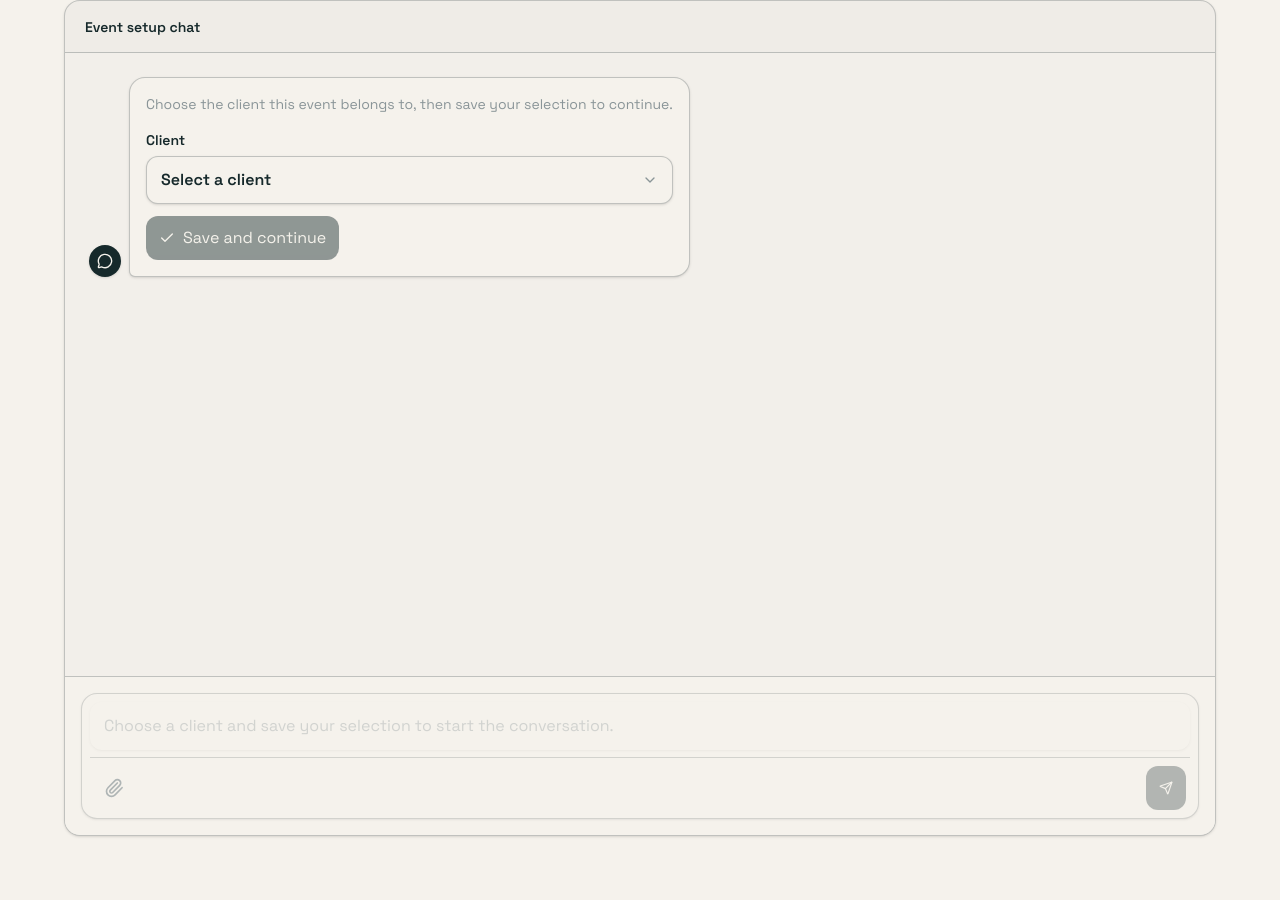
Test: CreateEventPage platform administrator flow › lets SUPER_ADMIN accept a suggested name in the same setup chat
Step 1. Click the button "Select a client" → (216, 180), box [146,156,673,204]
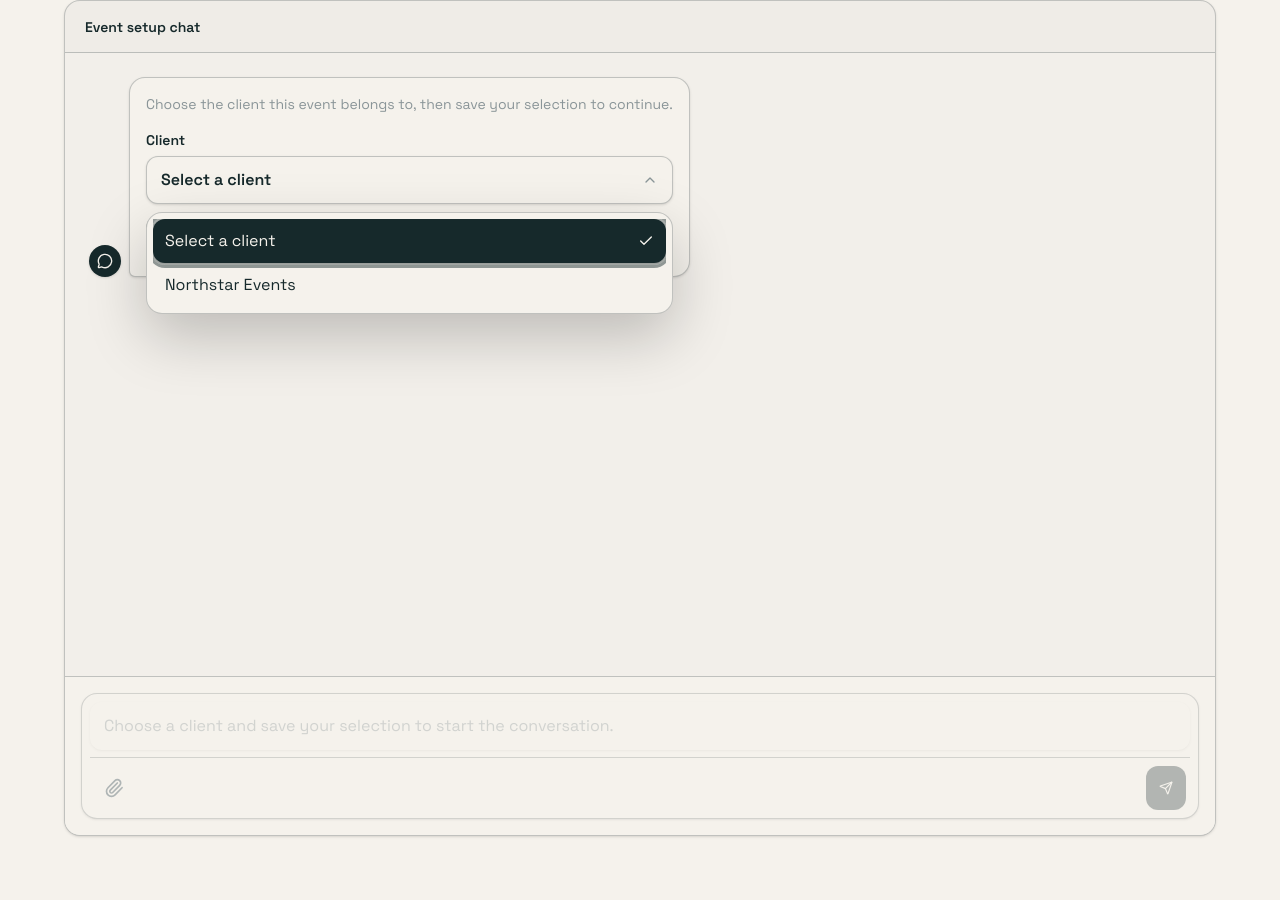
Step 2. Click the option "Northstar Events" → (230, 284), box [153,263,666,307]
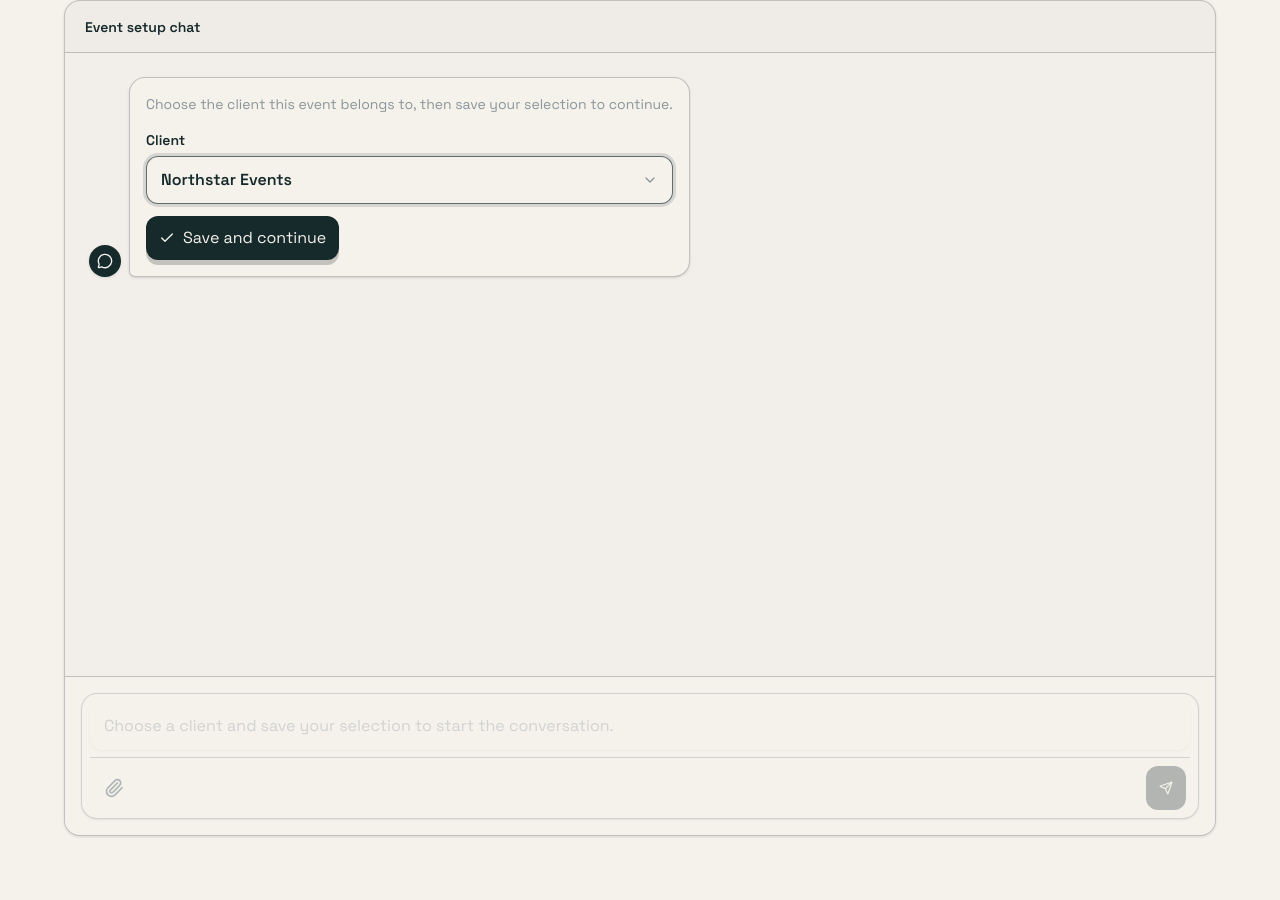
Step 3. Click the button "Save and continue" → (243, 238), box [146,216,339,260]
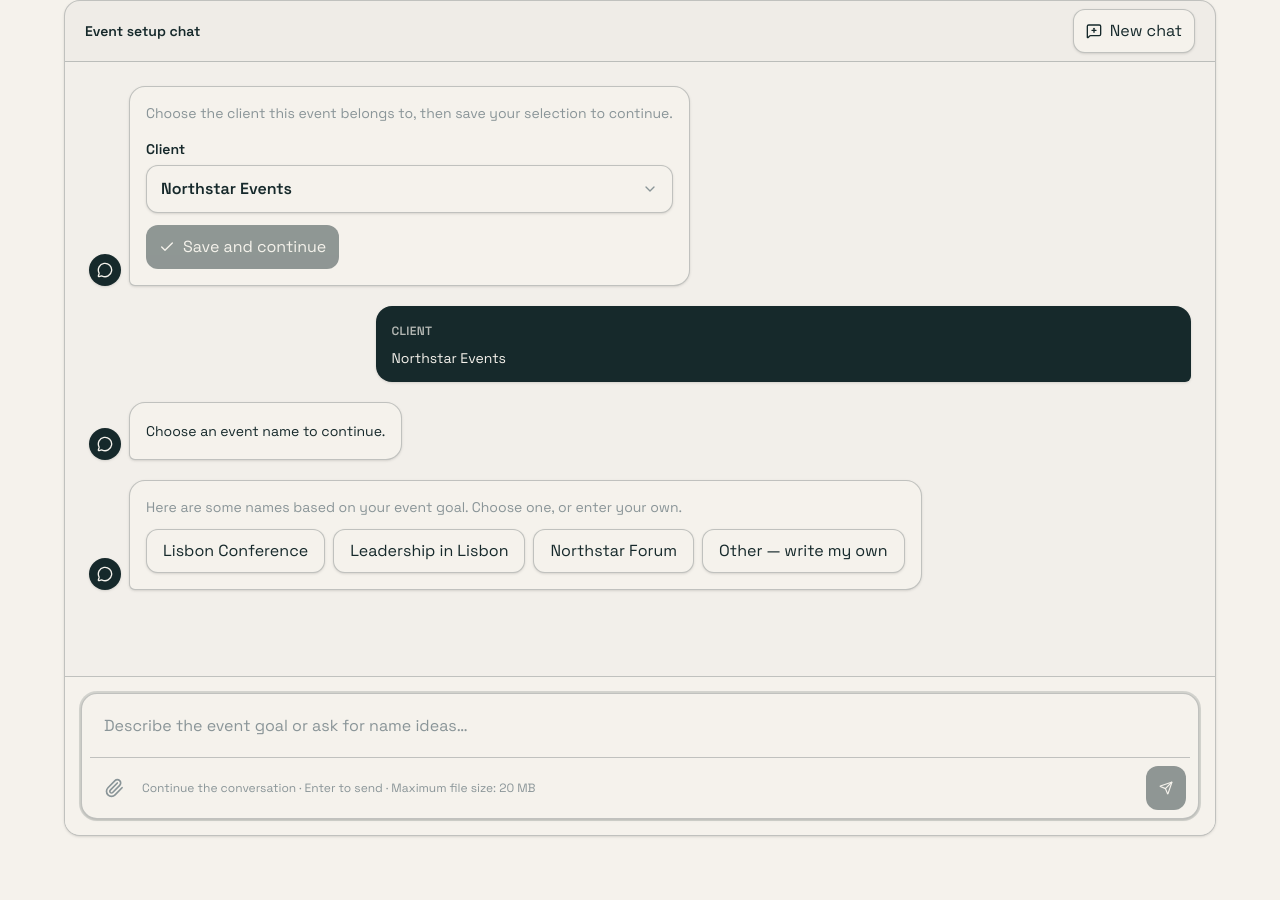
Result: the button "Lisbon Conference" is shown at [146,529,325,573]
Result: the button "Leadership in Lisbon" is shown
Result: the button "Northstar Forum" is shown at [534,529,694,573]
Step 4. Click the button "Leadership in Lisbon" → (429, 551), box [333,529,526,573]
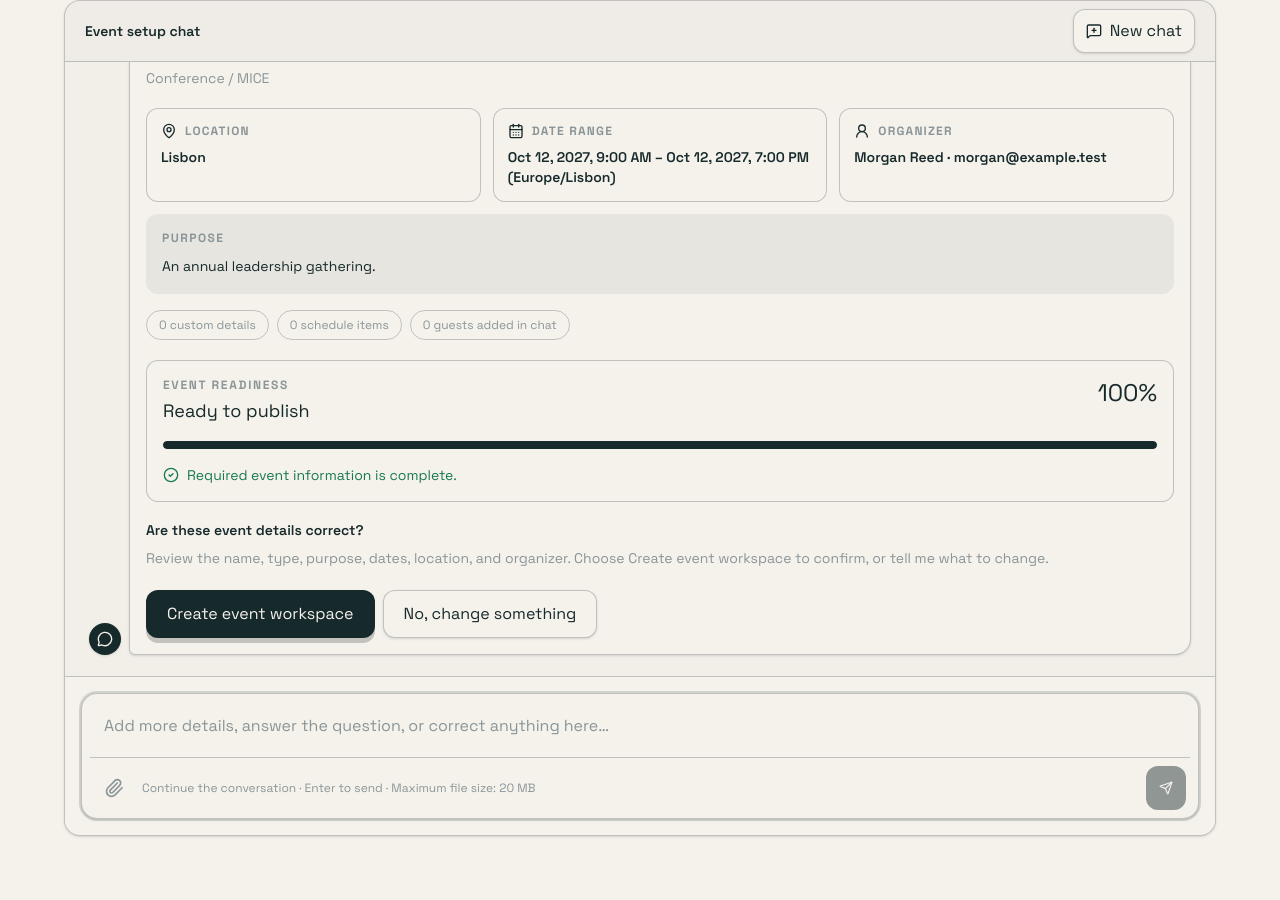
Result: the button "Create event workspace" is enabled at [146,590,375,638]
